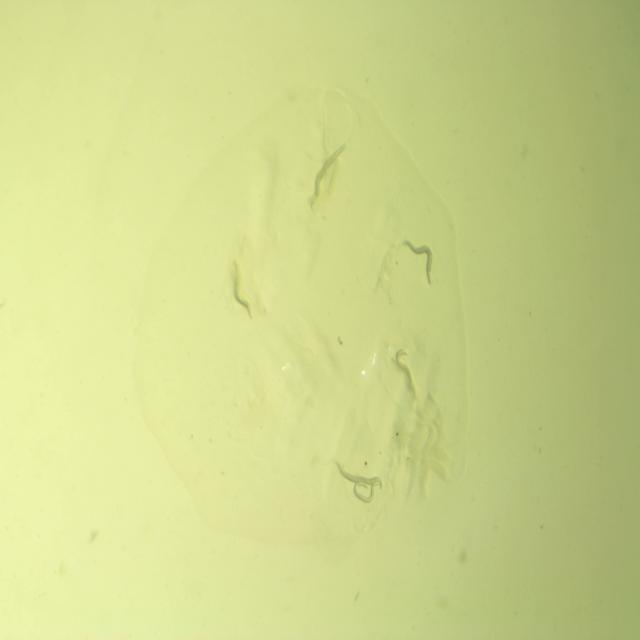worm: (306, 139, 348, 213), (395, 237, 437, 290), (332, 457, 385, 492), (230, 259, 255, 324), (391, 343, 417, 389), (348, 480, 384, 510)
